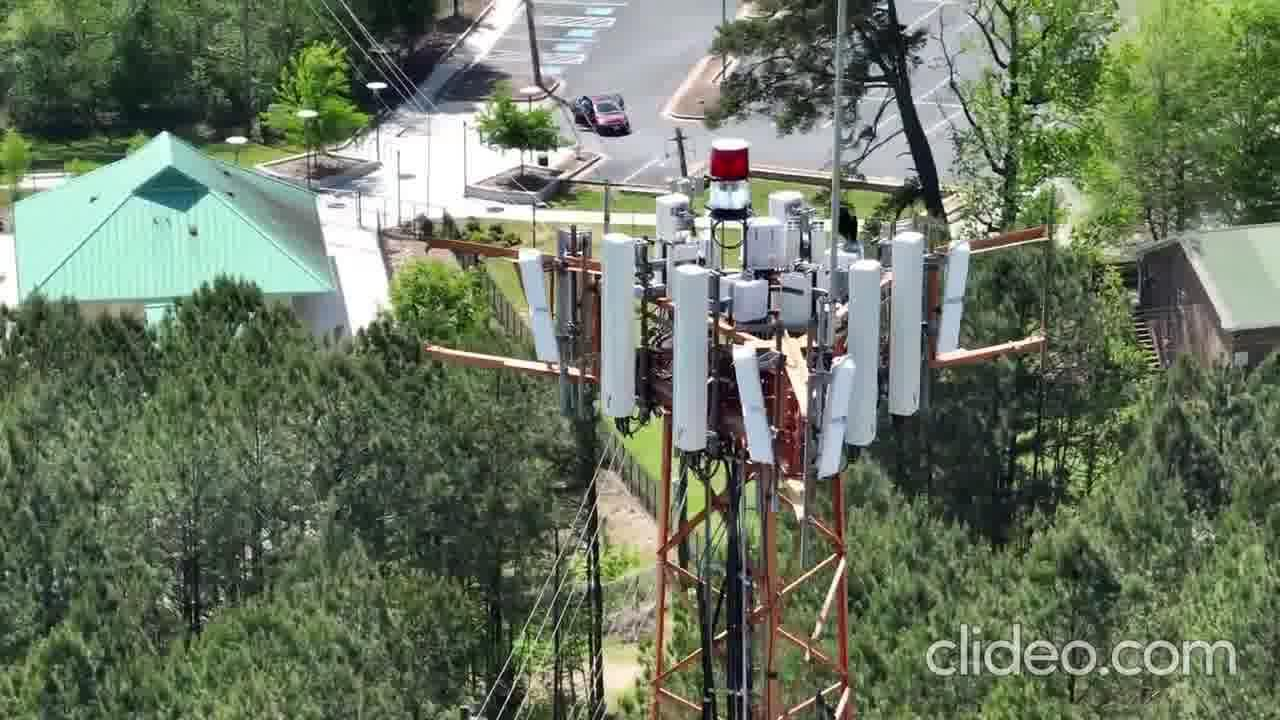antenna: (655, 263, 716, 456), (598, 232, 646, 417), (730, 337, 787, 483), (893, 231, 927, 420), (938, 239, 985, 372), (515, 237, 564, 363), (848, 257, 878, 449), (817, 352, 856, 497)
